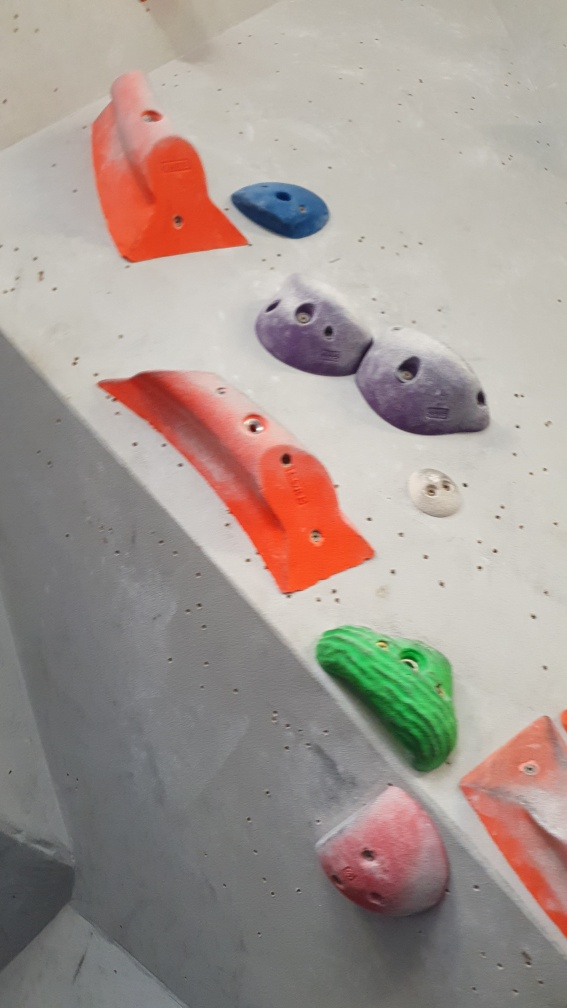Crimp: (226, 177, 333, 238)
Jug: (316, 623, 460, 775), (354, 328, 490, 435), (253, 271, 377, 377)
Pinch: (98, 360, 376, 595), (90, 71, 252, 265), (456, 712, 567, 938)
